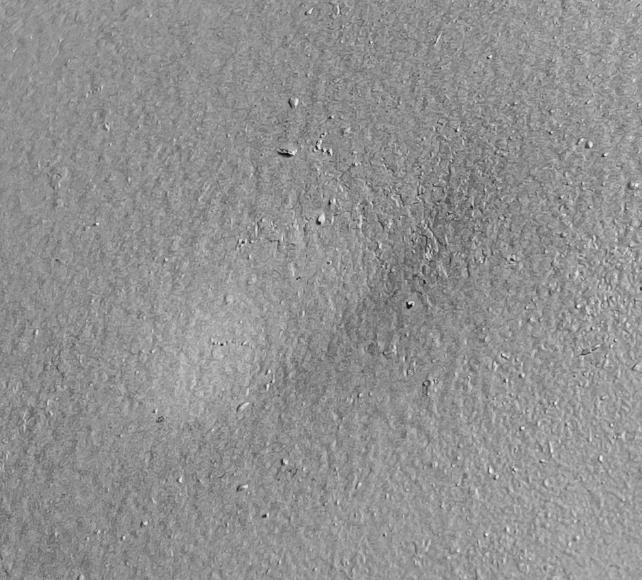dent: (1, 1, 642, 580)
